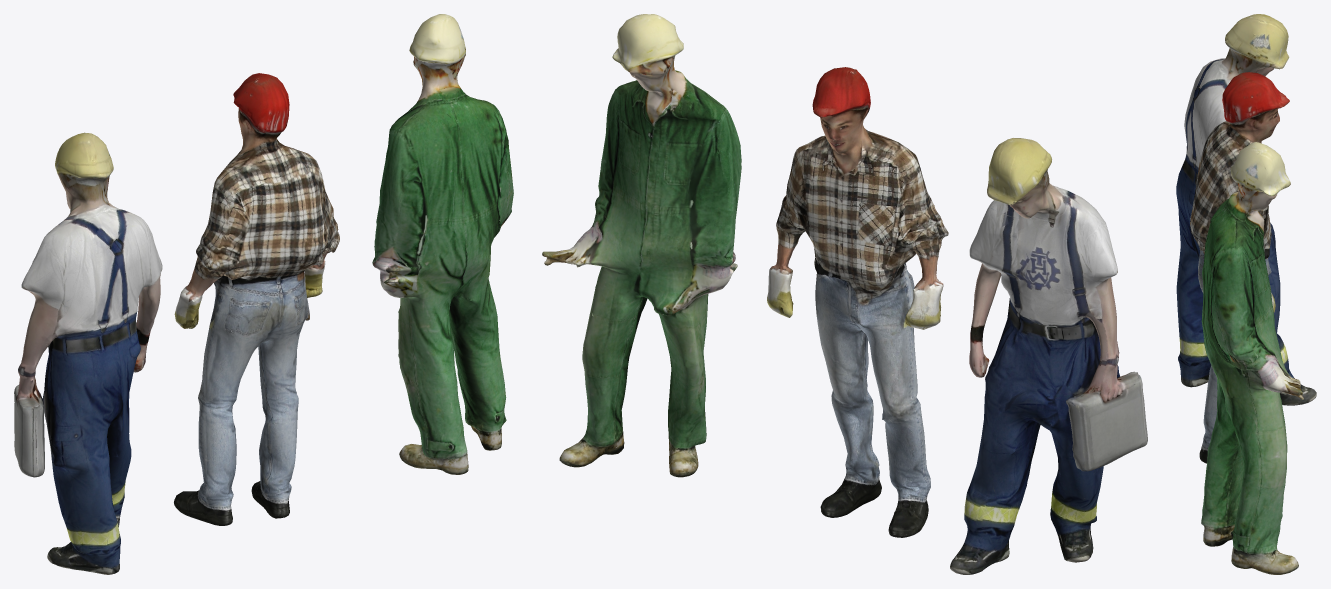
The picture shows the model from 3 angles, left to right: view 1: azimuth 30°, elevation 25°; view 2: azimuth 150°, elevation 25°; view 3: azimuth 270°, elevation 25°; orthographic projection. The views are drawn at different scales.
Parts seen in each view (by area): view 1: 静止人043ok (×3); view 2: 静止人043ok (×3); view 3: 静止人043ok (×3).
Part boxes in pixels (x1,y1,x2,y2): 静止人043ok (×3): (14,14,513,574); 静止人043ok (×3): (542,14,1147,574); 静止人043ok (×3): (1176,14,1316,574).
Bounding box in the file's own units: 238 × 190 × 59.6.
